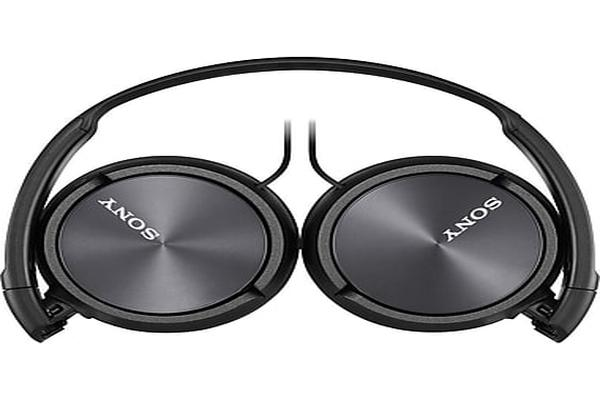headphone: (6, 42, 600, 370)
